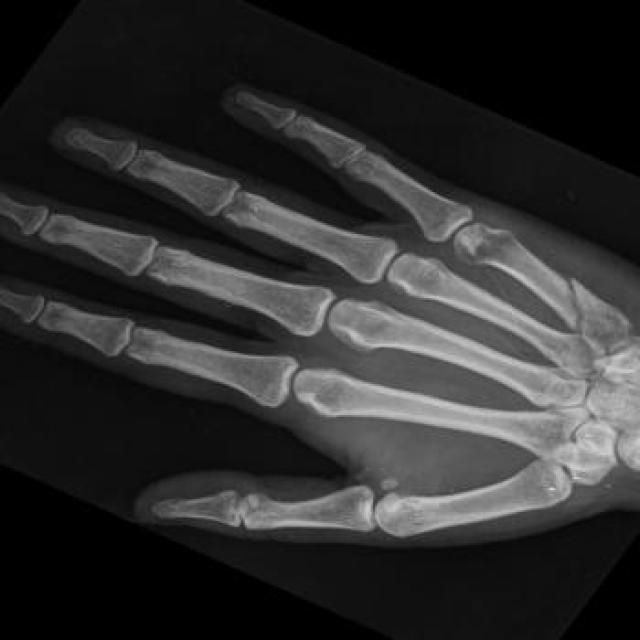Fracture: (562, 268, 592, 324)
